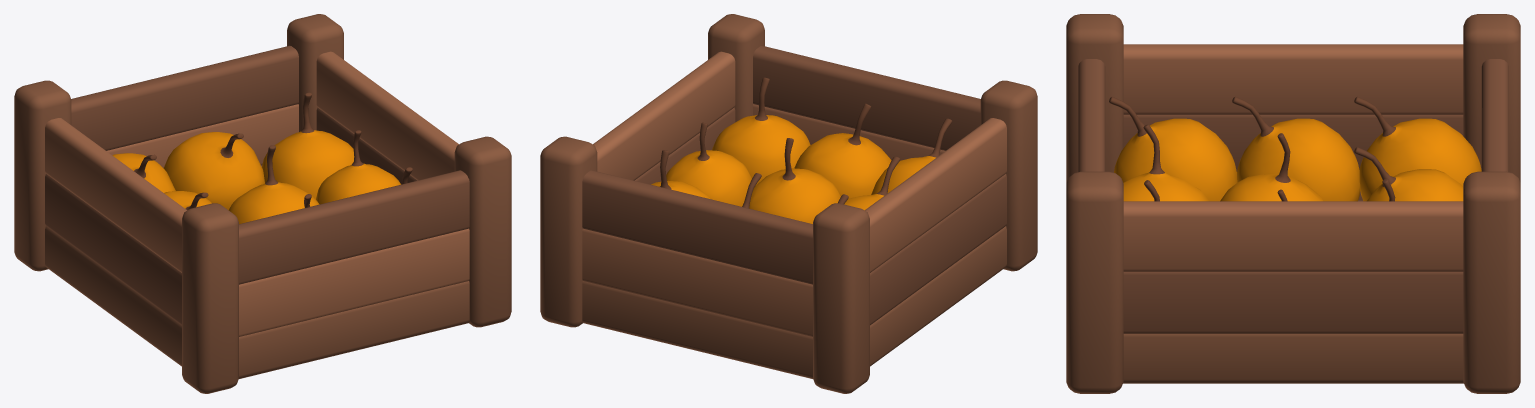
Rendered from prop19.fbx.
3 renders of one model, left to right at view 1: azimuth 30°, elevation 25°; view 2: azimuth 150°, elevation 25°; view 3: azimuth 270°, elevation 25°, orthographic. The views are drawn at different scales.
Visible parts, largest first — view 1: Cube.078; view 2: Cube.078; view 3: Cube.078.
Boxes of the visible parts, bbox=[...] form: Cube.078: bbox=[14, 14, 511, 393]; Cube.078: bbox=[540, 14, 1037, 393]; Cube.078: bbox=[1066, 14, 1520, 393].
Bounding box in the file's own units: 0.8745 × 0.9243 × 0.4643.
